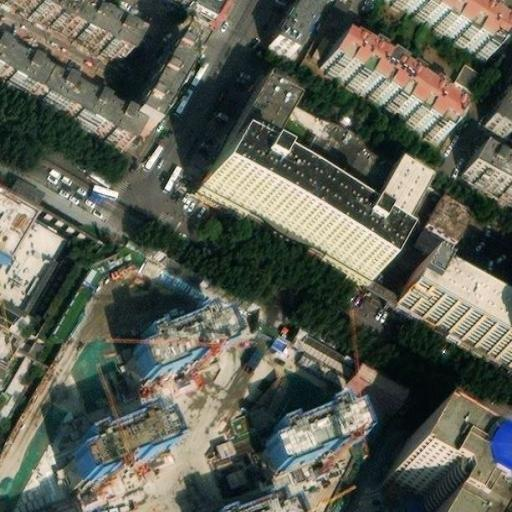building: (205, 140, 393, 275), (320, 34, 461, 137), (0, 39, 139, 143), (398, 254, 511, 345), (388, 430, 505, 512), (126, 296, 231, 374), (258, 395, 363, 470), (0, 209, 68, 319), (58, 412, 160, 484), (130, 23, 202, 123), (392, 0, 507, 56), (360, 161, 427, 239), (227, 82, 292, 158), (48, 0, 135, 55), (47, 262, 104, 342), (346, 355, 410, 410), (288, 324, 353, 375), (427, 186, 473, 233), (482, 74, 512, 143), (0, 347, 32, 393), (446, 61, 481, 97), (417, 217, 455, 250), (225, 494, 292, 512)
